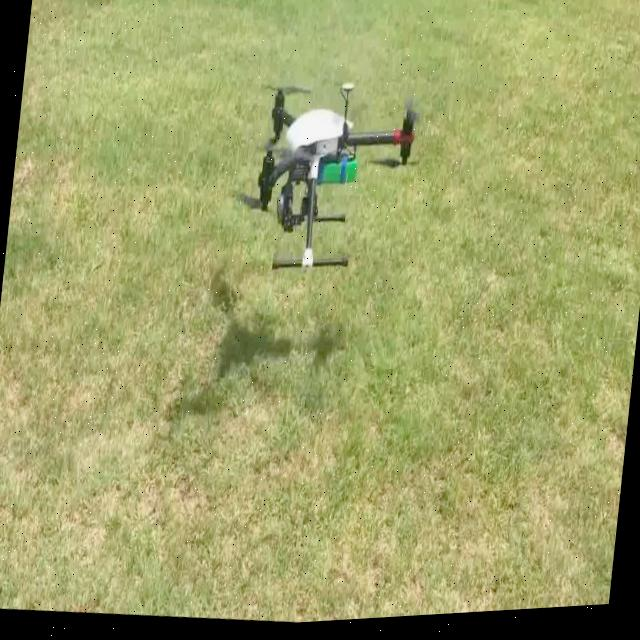drone: (240, 68, 426, 287)
